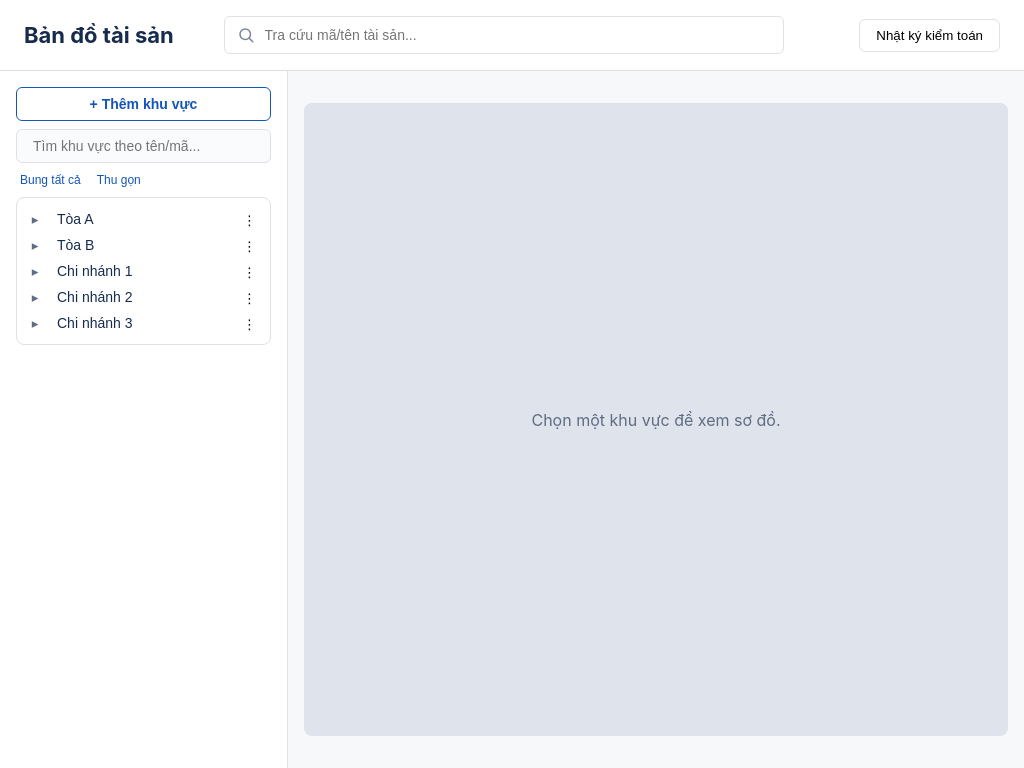
it: Workspace S01 — cây khu vực › dấu hiệu 'đã có sơ đồ' chỉ hiện ở nút có sơ đồ
Click the button named "Mở Tòa A": coordinates (35, 219) top-left (25, 210), bottom-right (45, 228)
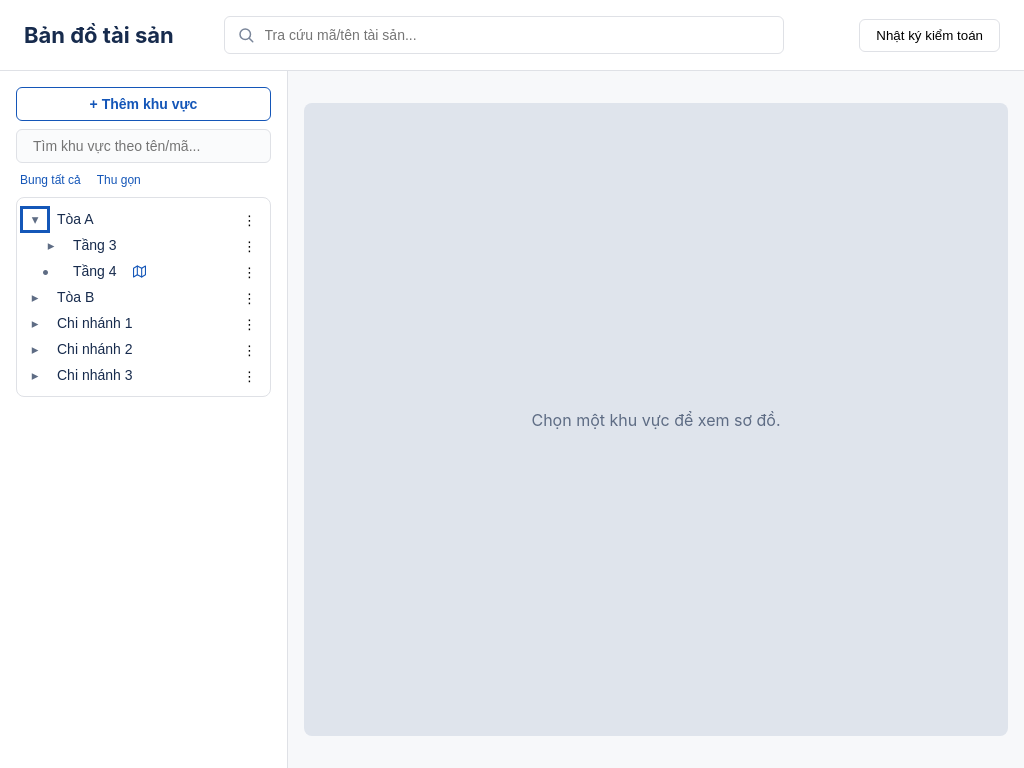
Click the button named "Mở Tầng 3": coordinates (51, 245) top-left (41, 236), bottom-right (61, 254)
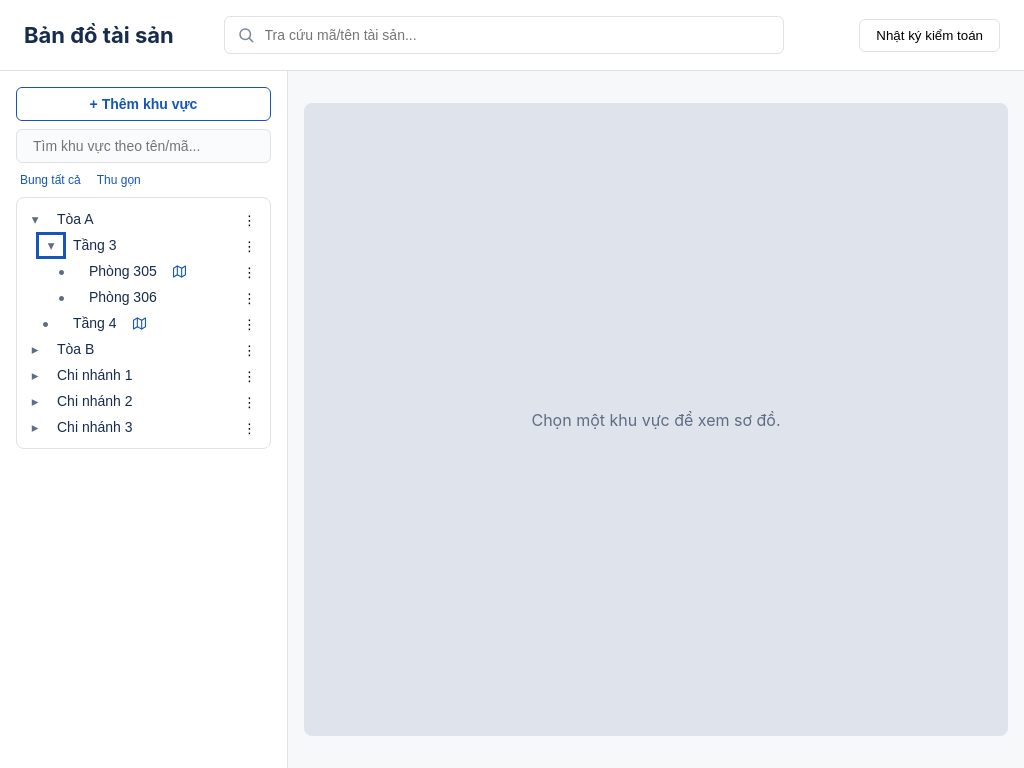
Now the 1st element titled "Đã có sơ đồ mặt bằng" is shown, box top-left (173, 264), bottom-right (186, 278)
